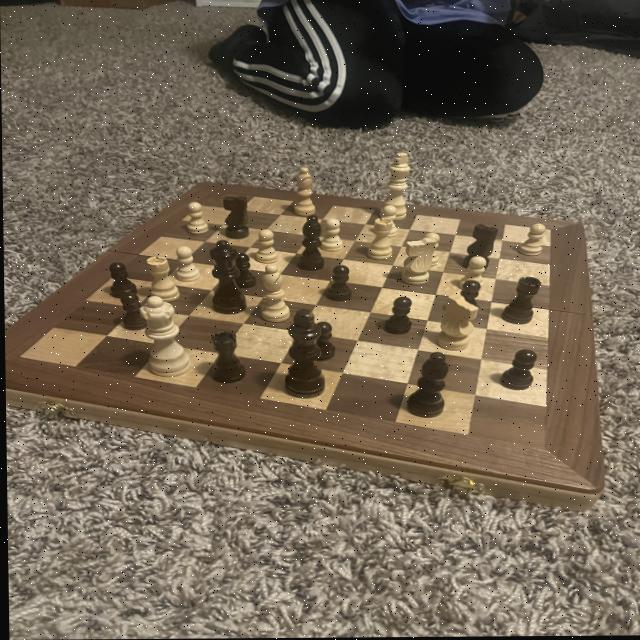bishop: (401, 350, 454, 424), (296, 214, 326, 272)
black-bishop: (279, 306, 326, 402)
black-king: (458, 223, 497, 270), (220, 193, 252, 241)
black-knight: (375, 294, 418, 341), (496, 348, 538, 394), (316, 265, 352, 303), (103, 261, 139, 299), (306, 321, 336, 366), (117, 290, 148, 333), (231, 252, 259, 292), (454, 280, 484, 314)
black-pawn: (203, 238, 249, 318)
black-queen: (496, 275, 542, 328), (203, 332, 246, 387)
black-rook: (257, 265, 291, 326), (288, 165, 318, 220)
white-bishop: (376, 150, 414, 224)
white-king: (431, 293, 480, 352), (397, 237, 436, 287)
white-knight: (453, 256, 489, 294), (512, 221, 546, 260), (316, 216, 349, 255), (172, 245, 201, 284), (251, 229, 279, 265), (182, 201, 210, 234), (374, 204, 400, 239), (417, 231, 442, 265)
white-pawn: (134, 291, 192, 380)
white-queen: (140, 254, 181, 303), (365, 215, 395, 262)
